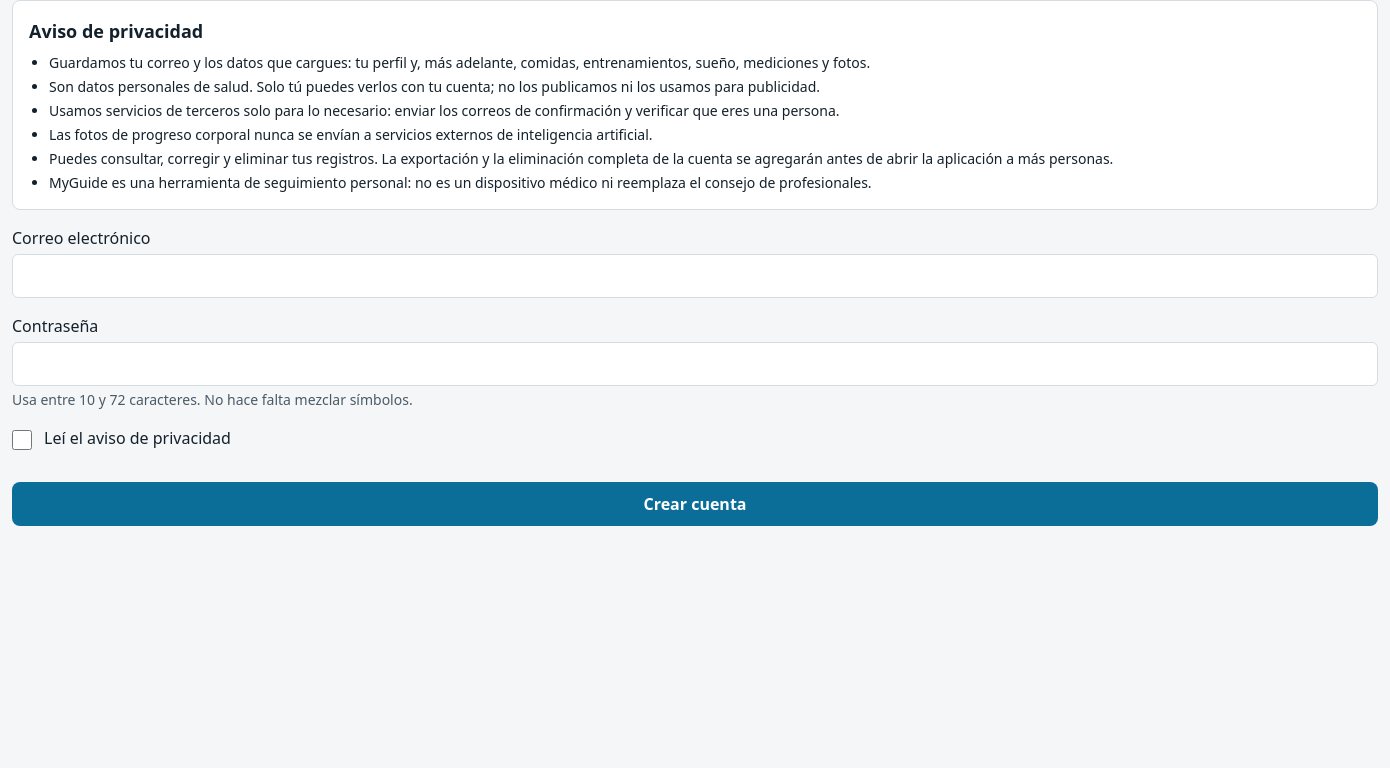
Test: RegisterForm › FR-002: rechaza contraseñas de menos de 10 caracteres
Type "persona@ejemplo.com" into the field labelled "Correo electrónico". click: (695, 276)
box: [12, 254, 1378, 298]
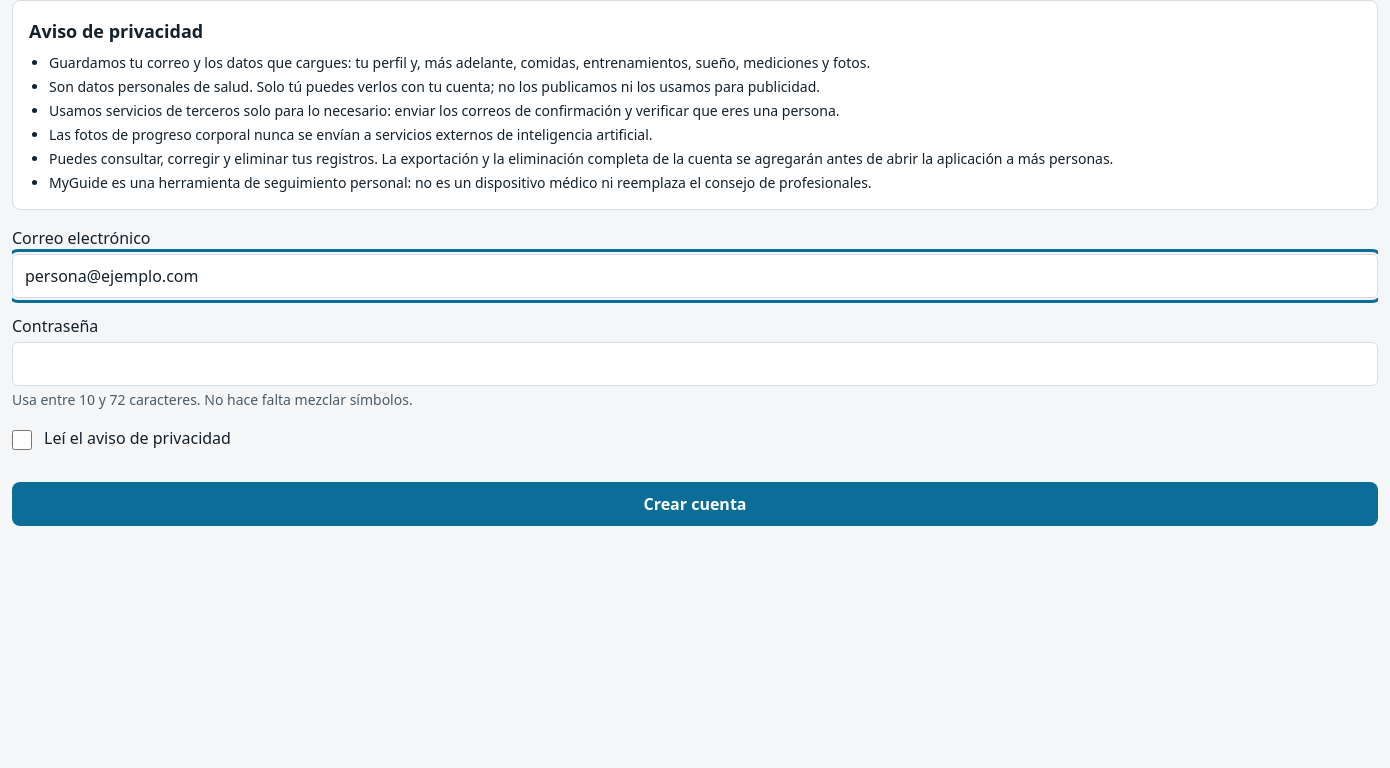
Type "corta" into the password field labelled "Contraseña". click: (695, 364)
box: [12, 342, 1378, 386]
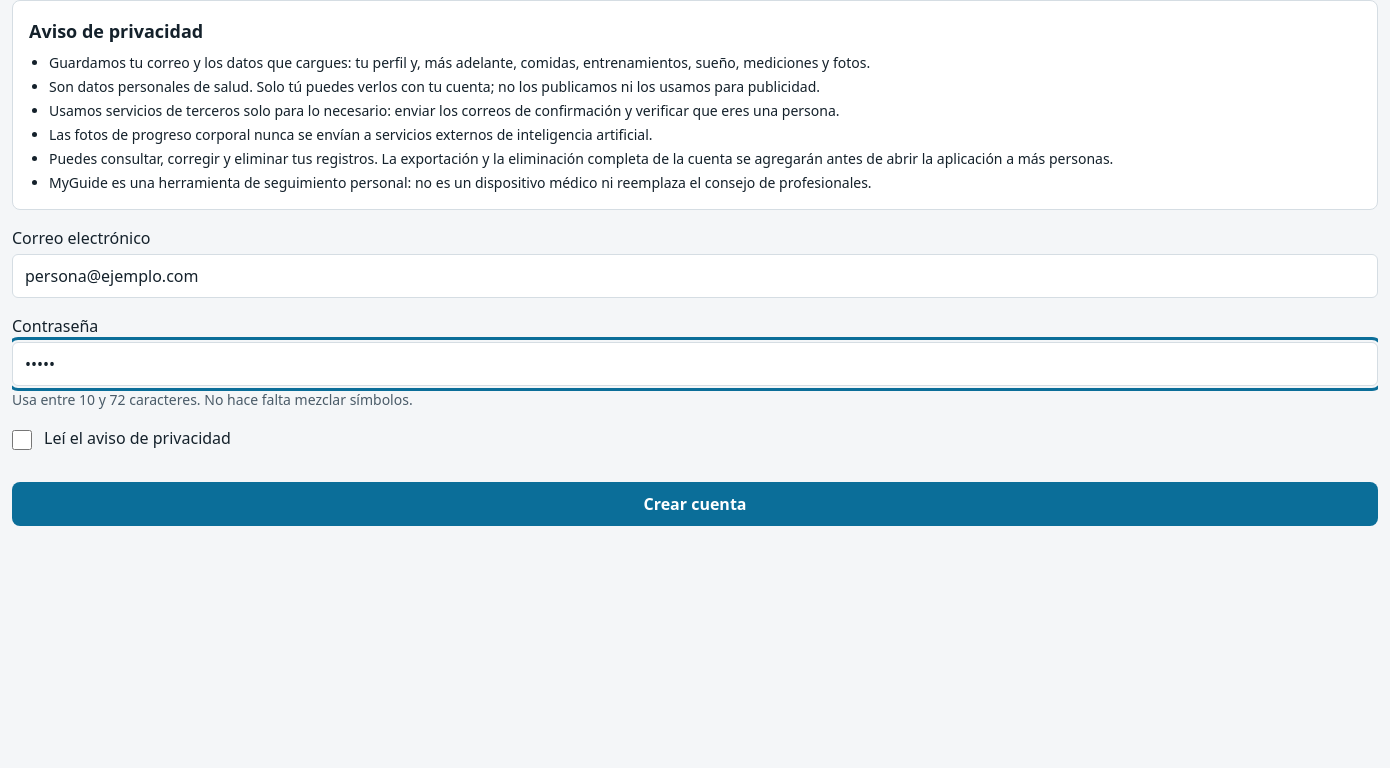
Click the checkbox labelled "Leí el aviso de privacidad". click: (22, 440)
box: [12, 430, 32, 450]
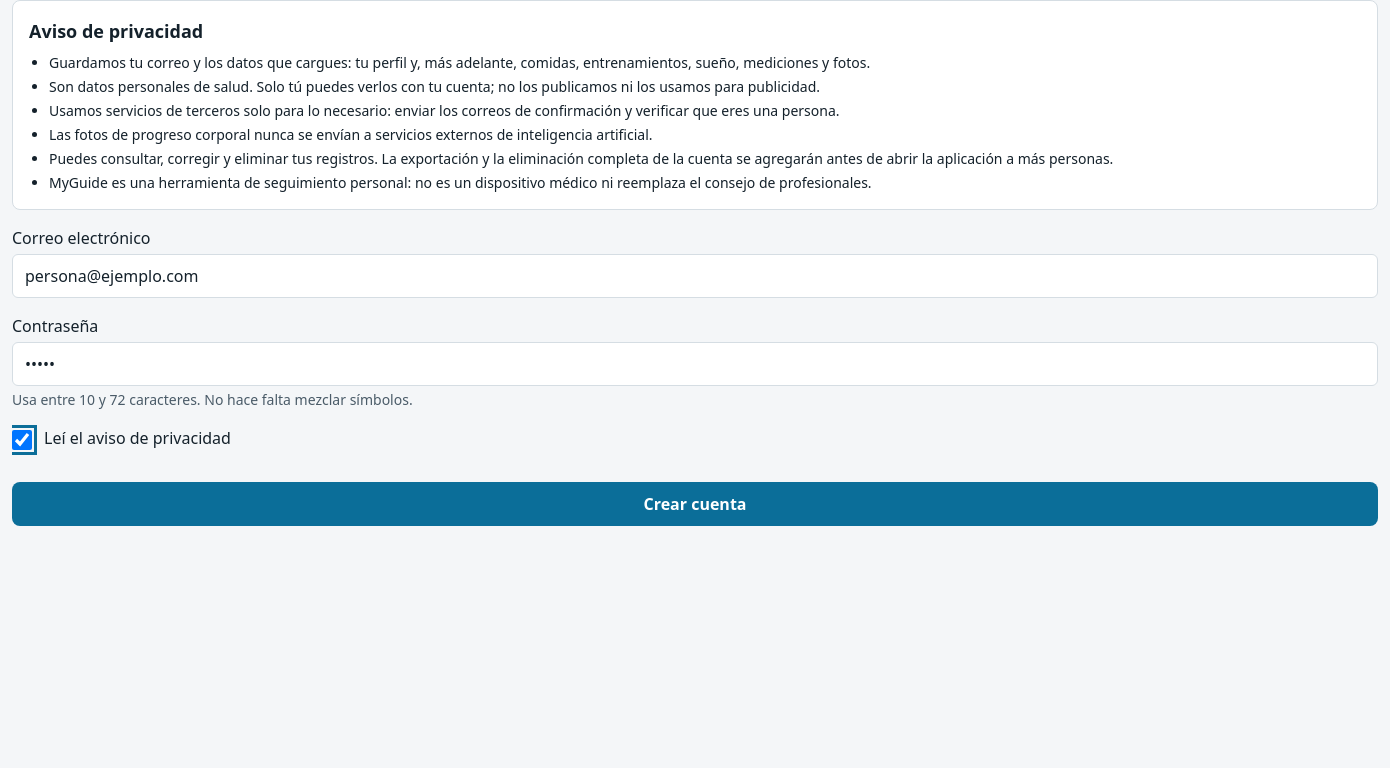
Click the button "Crear cuenta". click: (695, 504)
box: [12, 482, 1378, 526]
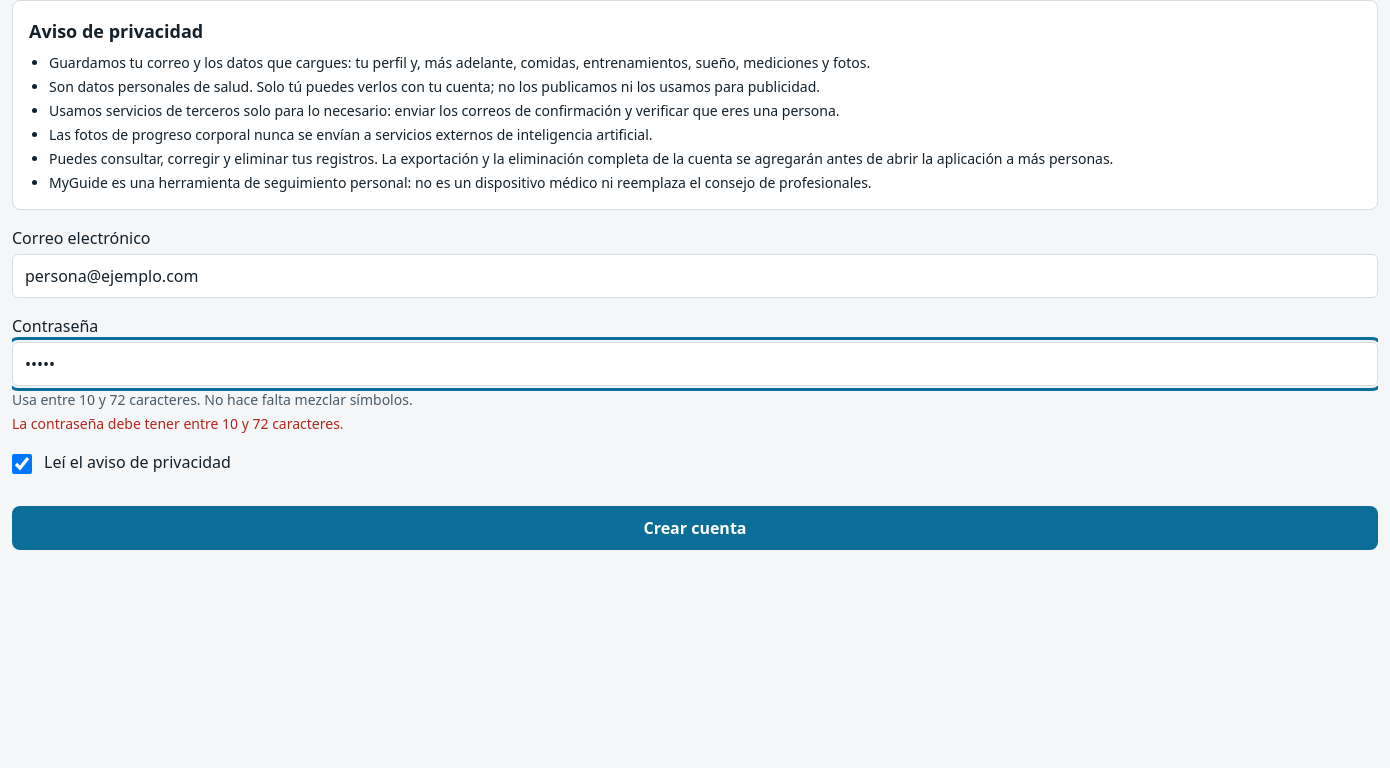
Check: the text "La contraseña debe tener entre 10 y 72 caracteres." is shown, box [12, 414, 344, 433]
